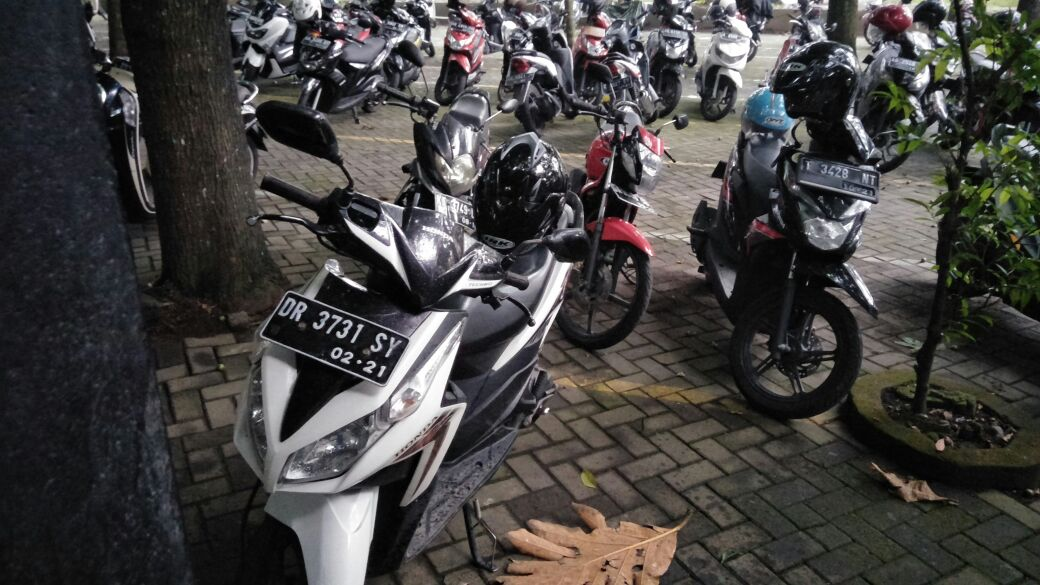plate: (259, 293, 412, 387), (798, 156, 881, 199)
